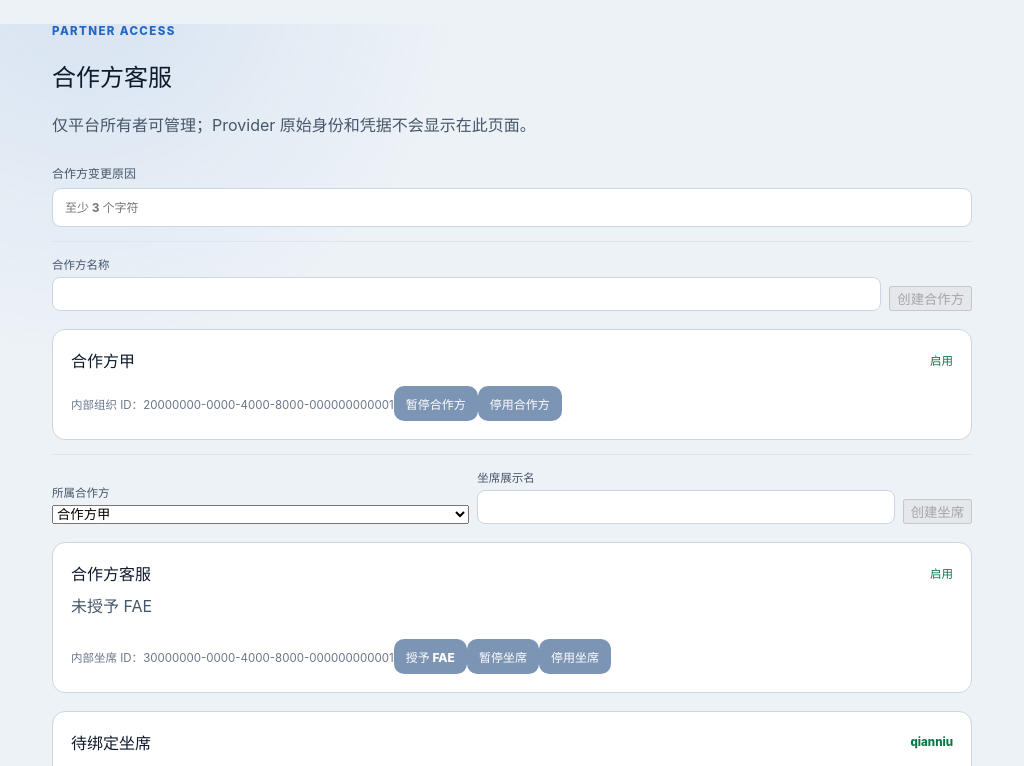
Test: PartnerAccessPanel › requires a reason and sends one client-generated request ID
expect the button "创建合作方" is disabled: met, box [889, 286, 972, 311]
Type "合作方乙" into the field named "合作方名称". click: (467, 294)
box: [52, 277, 881, 311]
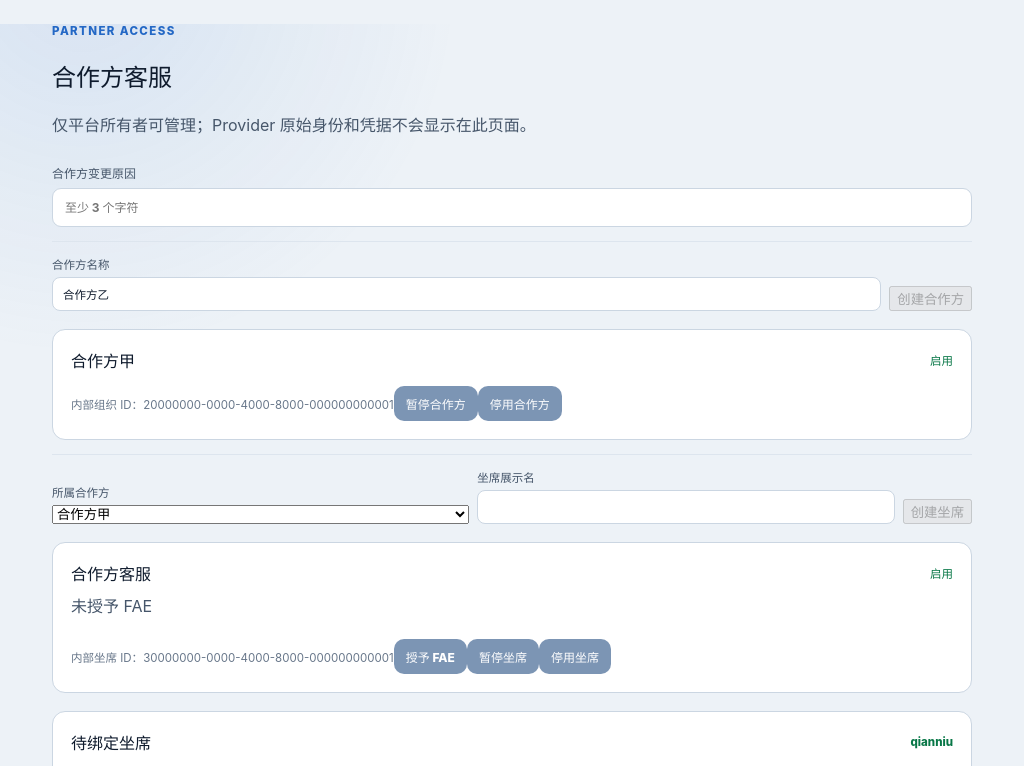
Type "ab" into the field named "合作方变更原因". click: (512, 208)
box: [52, 188, 972, 227]
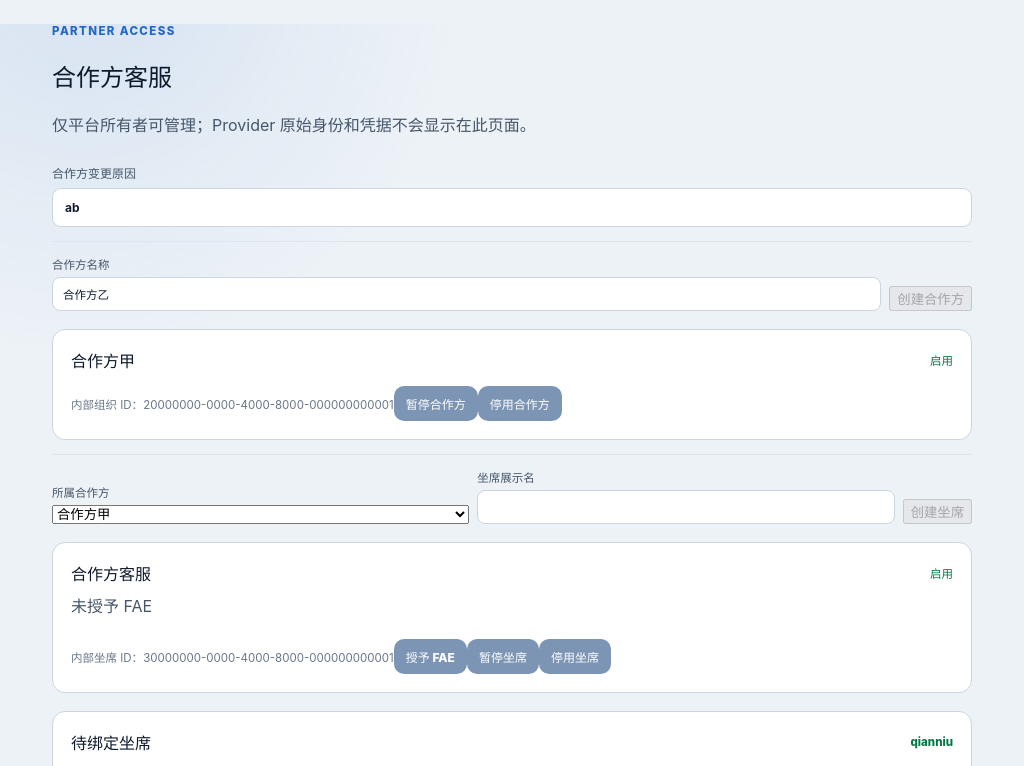
expect the button "创建合作方" is disabled: met, box [889, 286, 972, 311]
Replace the text in the field named "合作方变更原因" with "新增试点". click: (512, 208)
box: [52, 188, 972, 227]
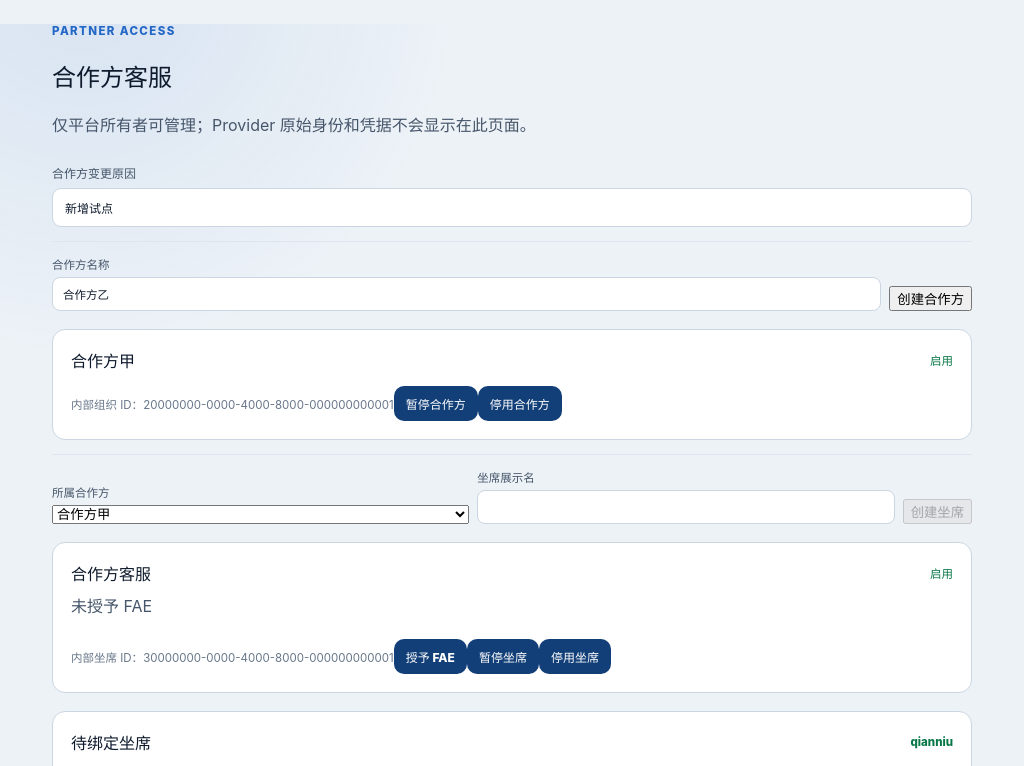
expect the button "创建合作方" is enabled: met
Click the button "创建合作方". click: (931, 299)
box: [889, 286, 972, 311]
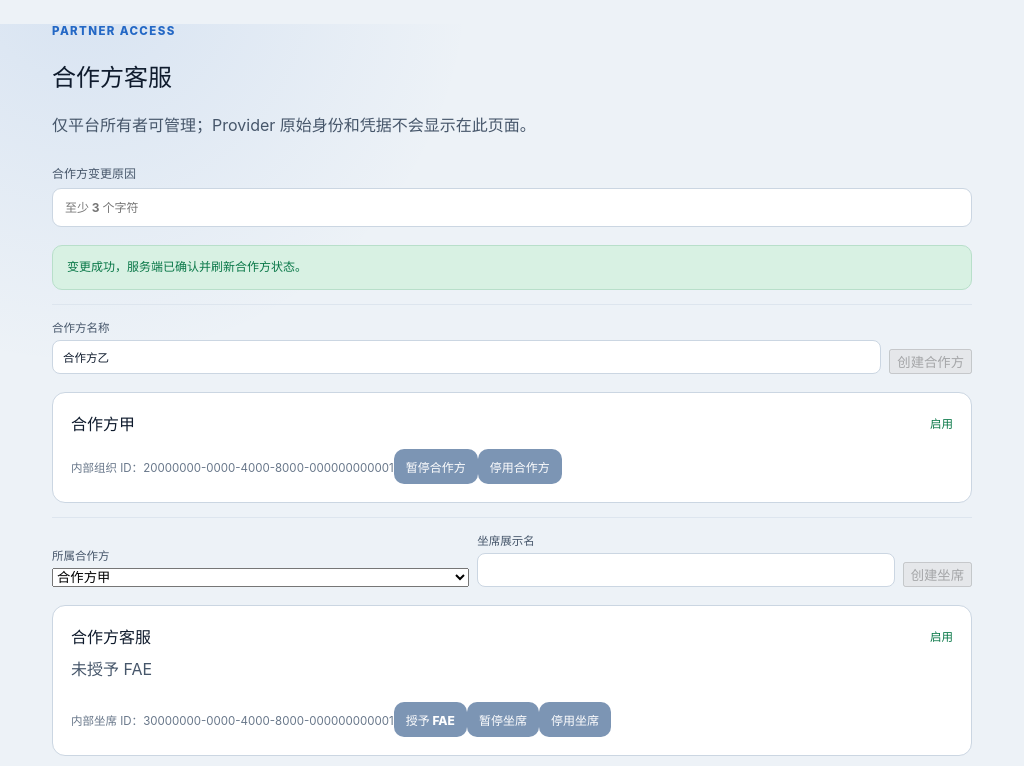
expect the text "变更成功" is shown: met, box [67, 259, 307, 274]
